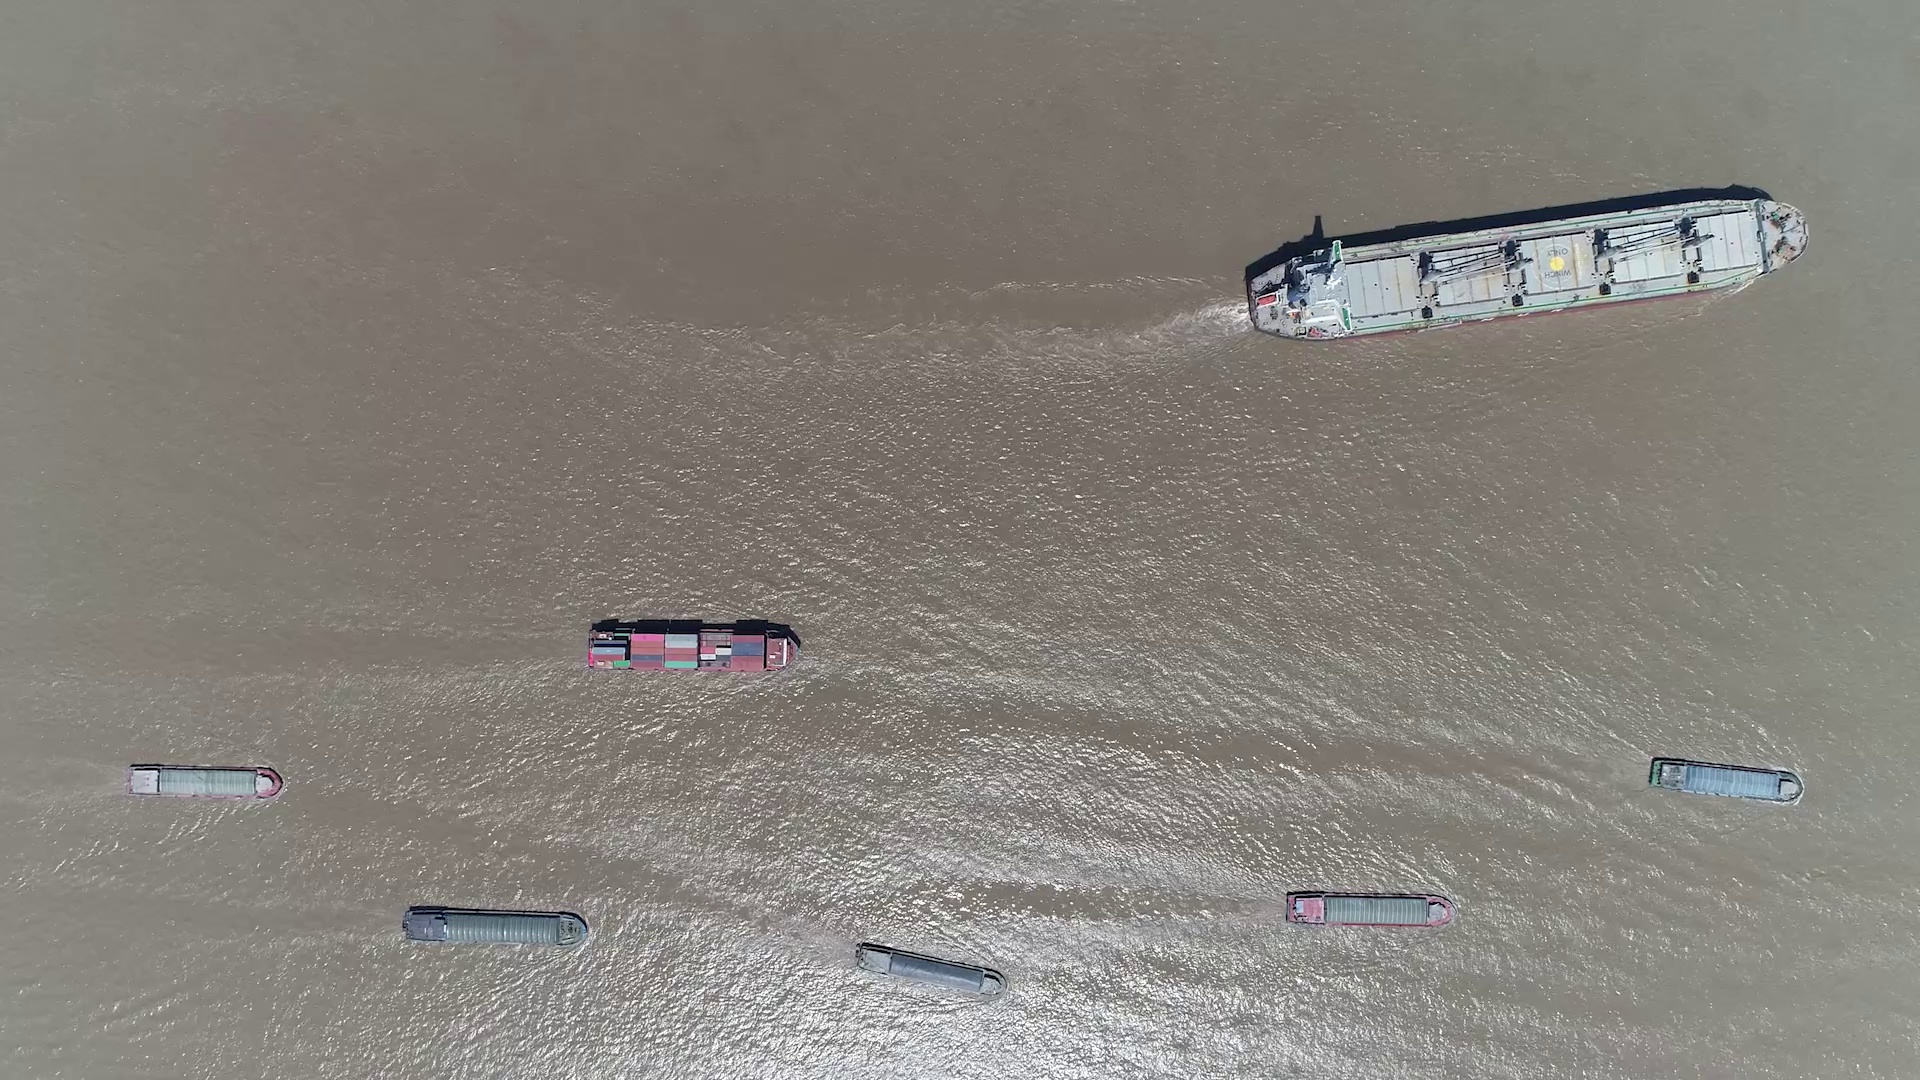ship: (1242, 198, 1807, 340), (585, 624, 800, 673), (853, 942, 1004, 996), (404, 906, 584, 947), (1648, 756, 1803, 802), (1284, 891, 1455, 928), (124, 764, 280, 799)
